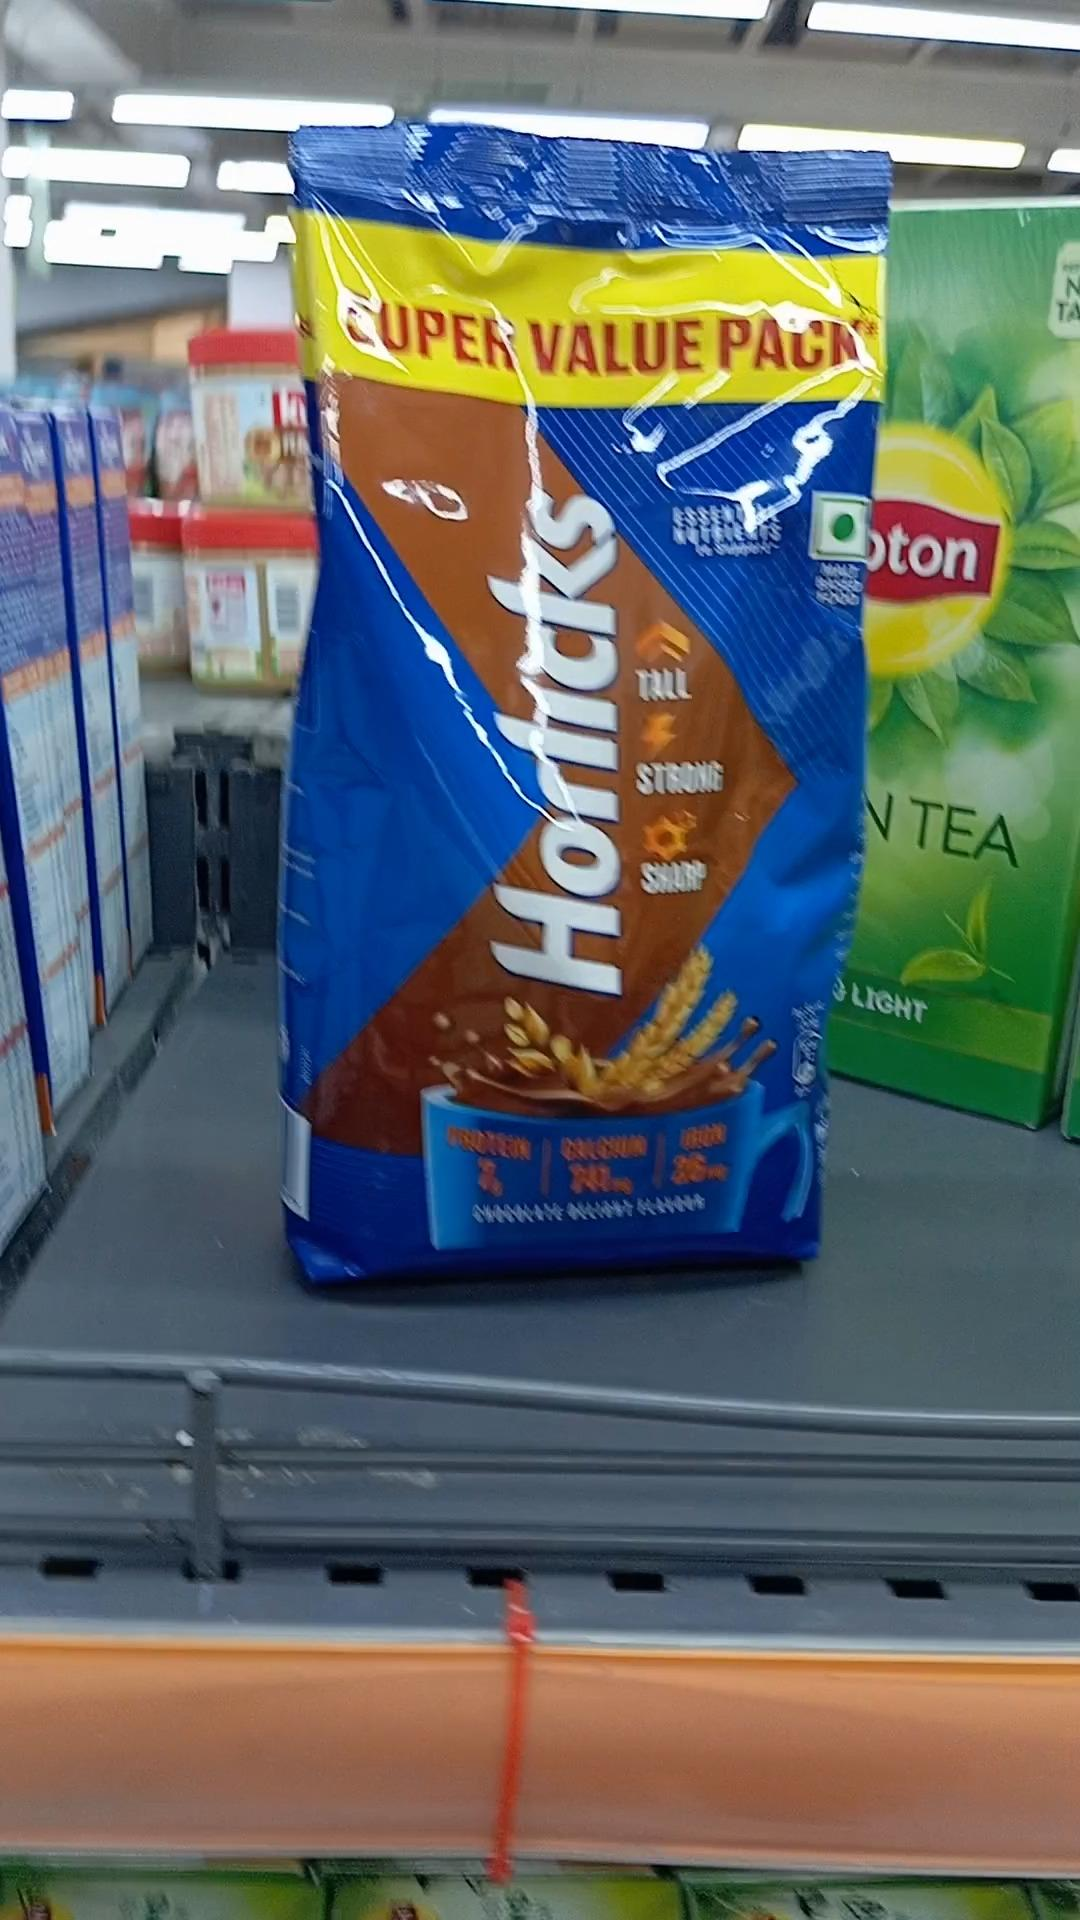HORLICK_CHOCOLATE_750_G_POUCH: (305, 128, 837, 1283)
